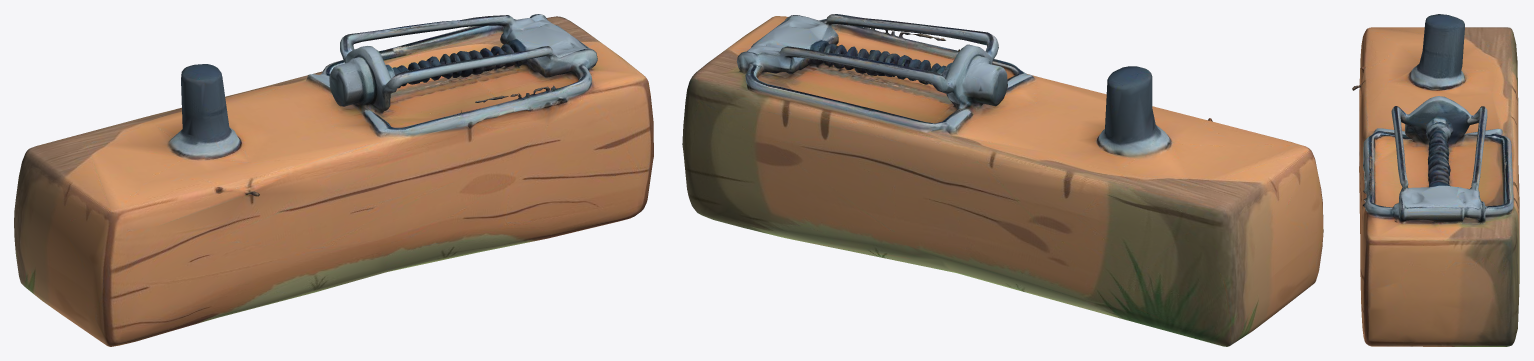
The model's file is mousetrap.glb.
3 renders of one model, left to right at view 1: azimuth 30°, elevation 25°; view 2: azimuth 150°, elevation 25°; view 3: azimuth 270°, elevation 25°, orthographic. The views are drawn at different scales.
Parts seen in each view (by area): view 1: Mesh_0; view 2: Mesh_0; view 3: Mesh_0.
Boxes of the visible parts, x1,y1,x2,y2 form: Mesh_0: (14, 14, 653, 346); Mesh_0: (682, 14, 1323, 346); Mesh_0: (1352, 14, 1519, 346).
Bounding box in the file's own units: 2 × 0.7341 × 0.6313.
Materials: 1 (1 with a texture image).
